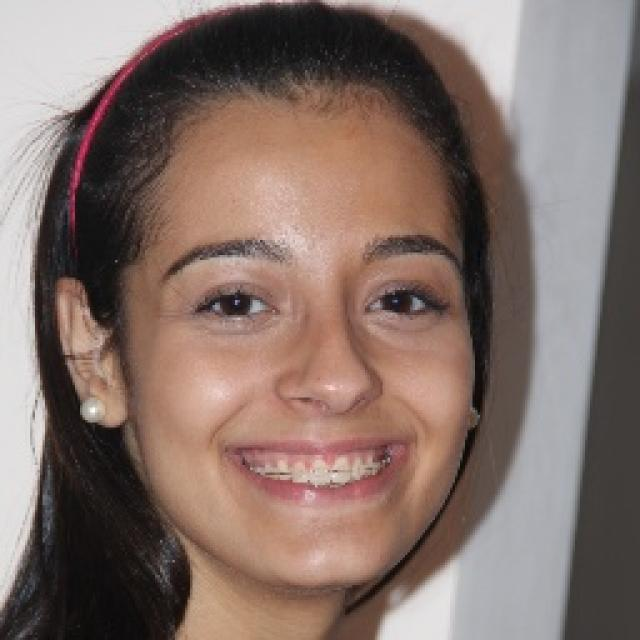earlobe: (76, 392, 133, 428), (465, 406, 482, 432)
eye: (195, 289, 279, 324), (368, 283, 441, 320)
nose: (278, 401, 384, 430)
wholeear: (56, 278, 130, 431)
